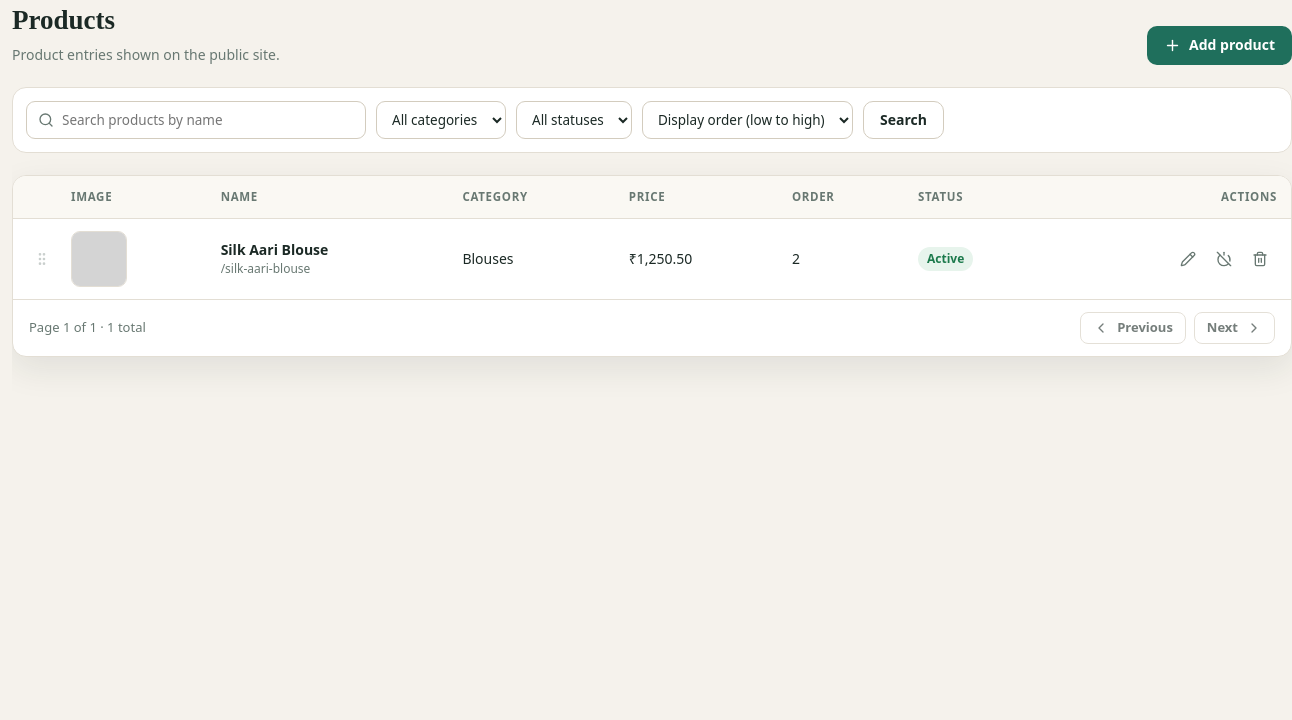
Test: catalogue list › toggles visibility through the update endpoint
expect the text "Silk Aari Blouse" is shown: met, box [221,240,328,259]
Click the button named "Hide Silk Aari Blouse". click: (1224,258)
box: [1207,242,1241,276]
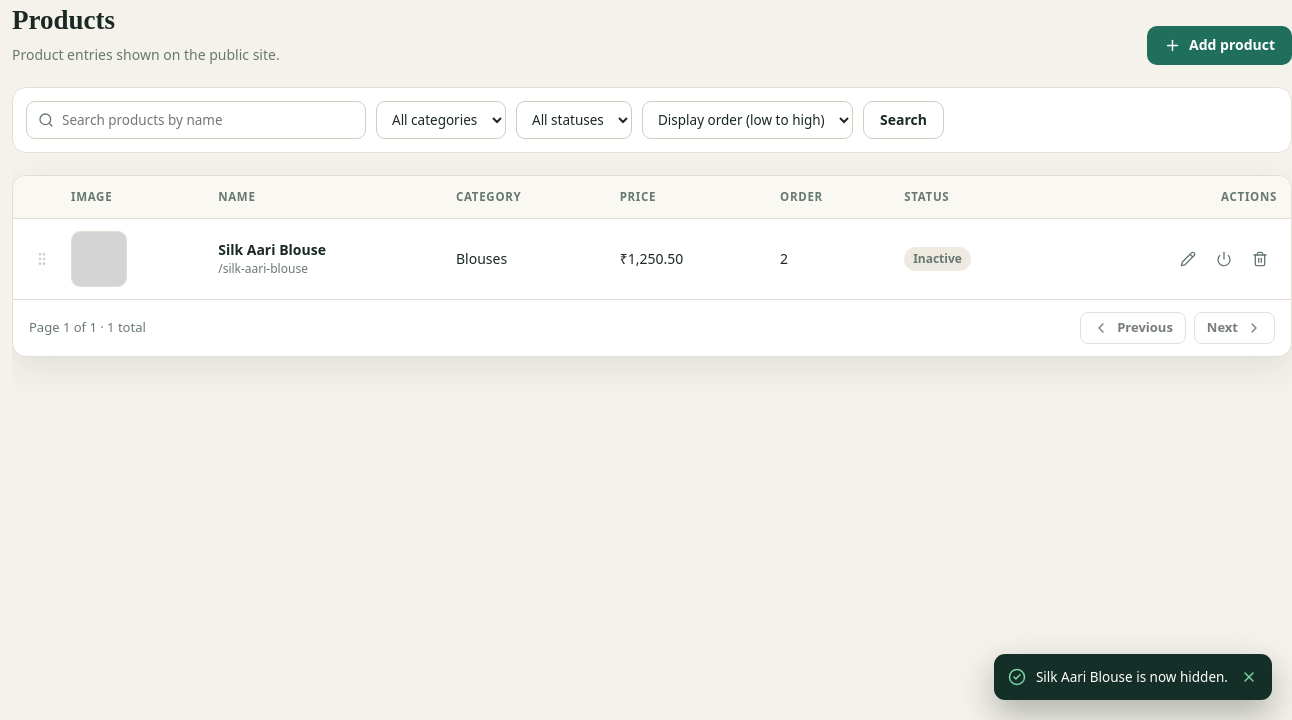
expect the text "Inactive" is shown: met, box [904,246,971,270]
